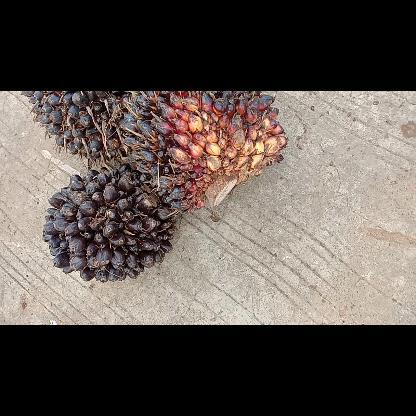TBS mentah: (116, 91, 288, 216), (39, 162, 178, 284), (16, 91, 158, 167)
